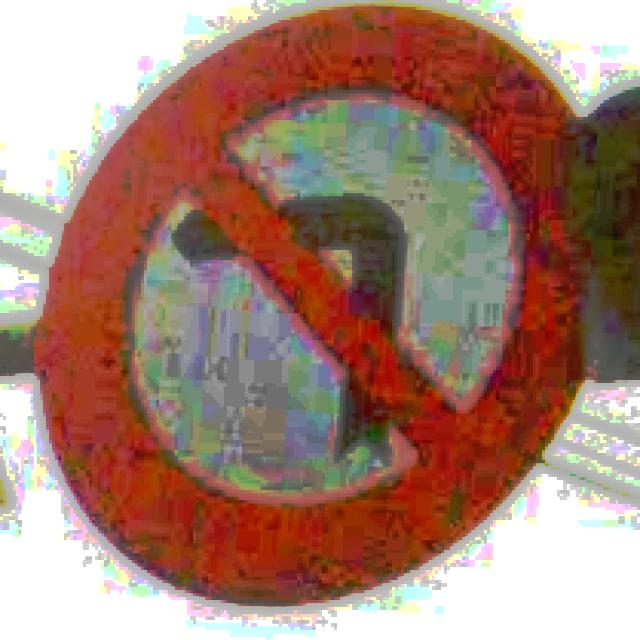noturnleft: (28, 0, 594, 610)
